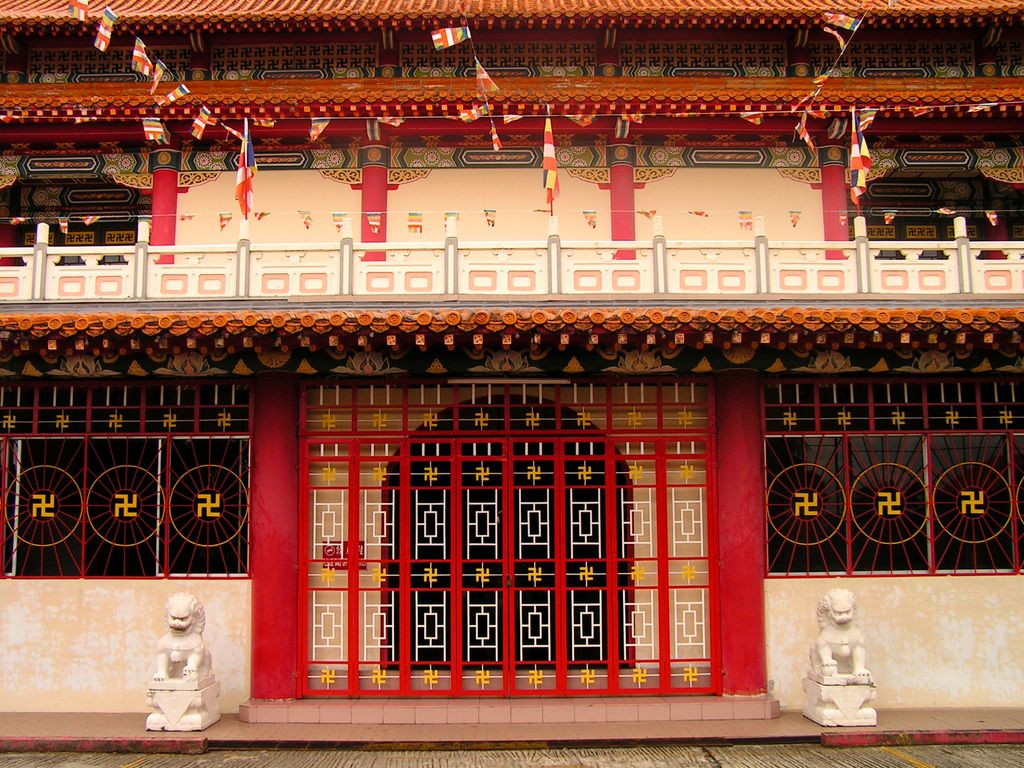Buddhist Temple: (9, 13, 999, 716)
